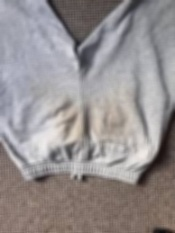earth: (60, 109, 78, 139), (107, 120, 116, 133)
